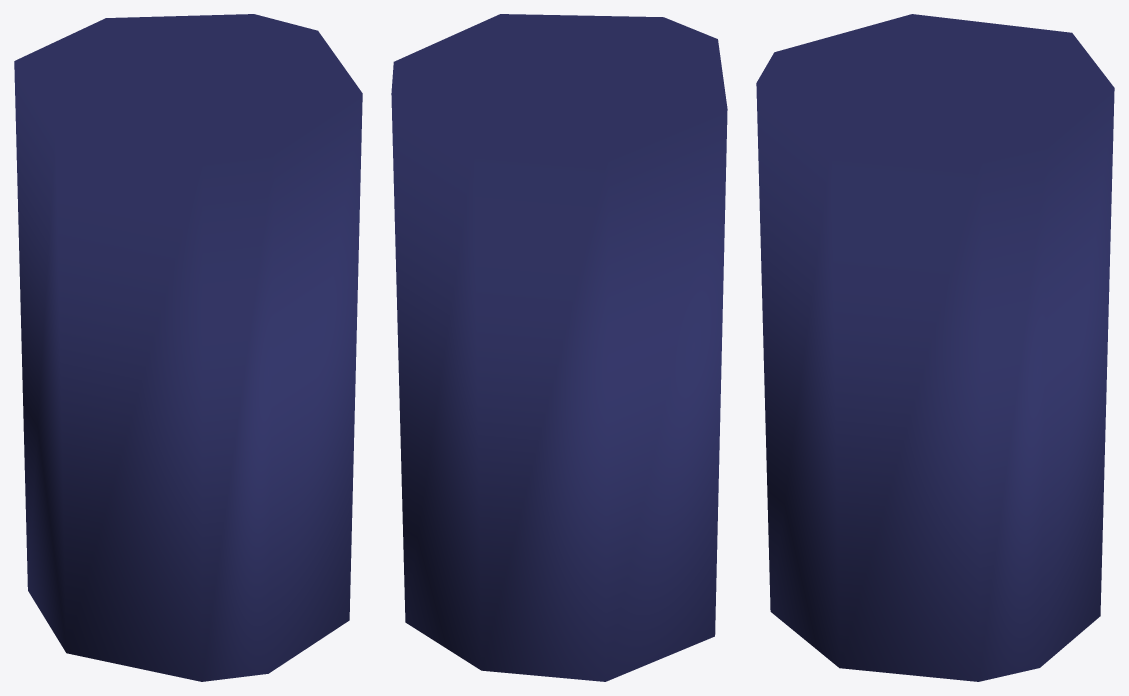
The model's file is platform2_LOD1.fbx.
The picture shows the model from 3 angles, left to right: view 1: azimuth 30°, elevation 25°; view 2: azimuth 150°, elevation 25°; view 3: azimuth 270°, elevation 25°; orthographic projection.
Visible parts, largest first — view 1: platform2; view 2: platform2; view 3: platform2.
Boxes of the visible parts, box(x1,y1,x2,y2) form: platform2: box(14, 14, 362, 681); platform2: box(391, 14, 727, 681); platform2: box(756, 14, 1114, 681).
Size of the model in its own units: 229 by 389 by 239.
